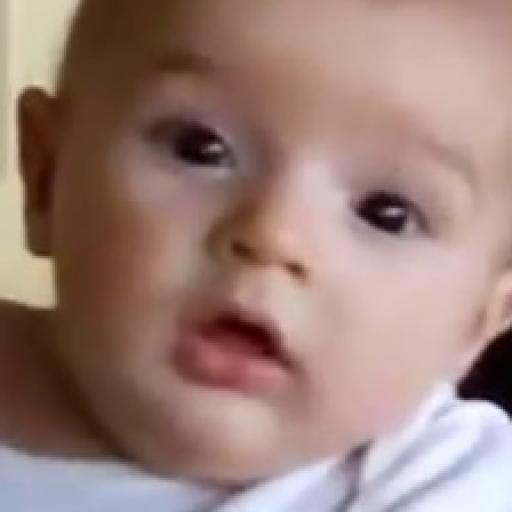Autism: (50, 8, 512, 512)
